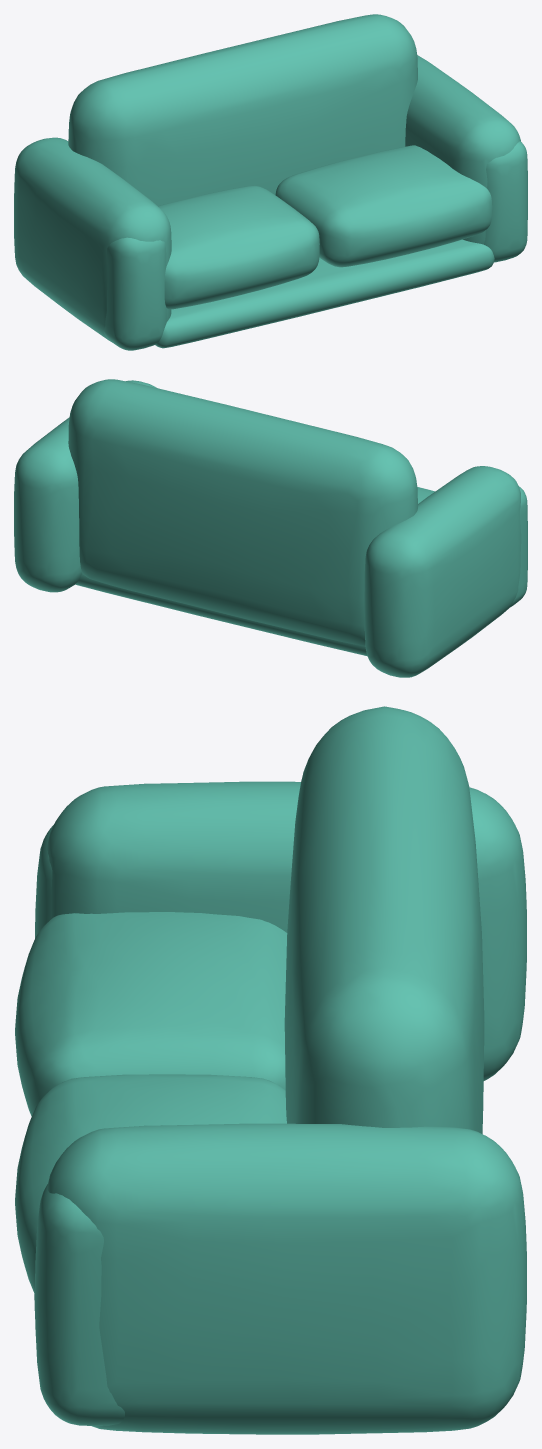
Rendered from sofa_b.glb.
The picture shows the model from 3 angles, top to bottom: view 1: azimuth 30°, elevation 25°; view 2: azimuth 150°, elevation 25°; view 3: azimuth 270°, elevation 25°; orthographic projection. The views are drawn at different scales.
Parts seen in each view (by area): view 1: body; view 2: body; view 3: body.
Part boxes in pixels (x1,y1,x2,y2): body: (14, 14, 527, 350); body: (14, 379, 527, 677); body: (15, 706, 526, 1434).
Size of the model in its own units: 1.6 by 0.7604 by 0.8452.
